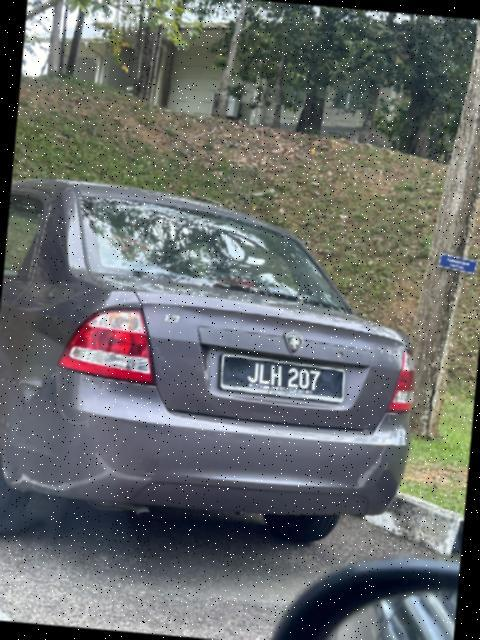JLH207: (217, 348, 350, 408)
License_Plate: (217, 348, 350, 408)
car: (1, 175, 431, 570)
